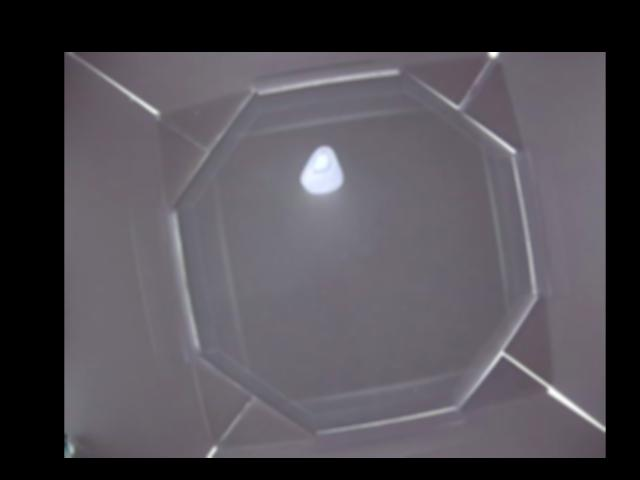Pebble: (296, 142, 341, 195)
